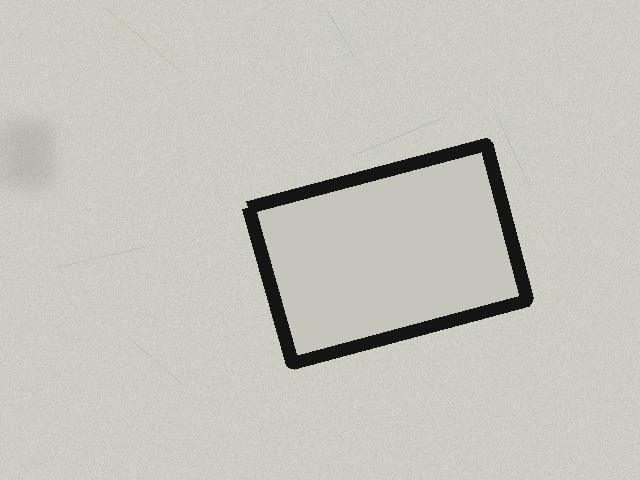parking_area: (248, 144, 527, 363)
